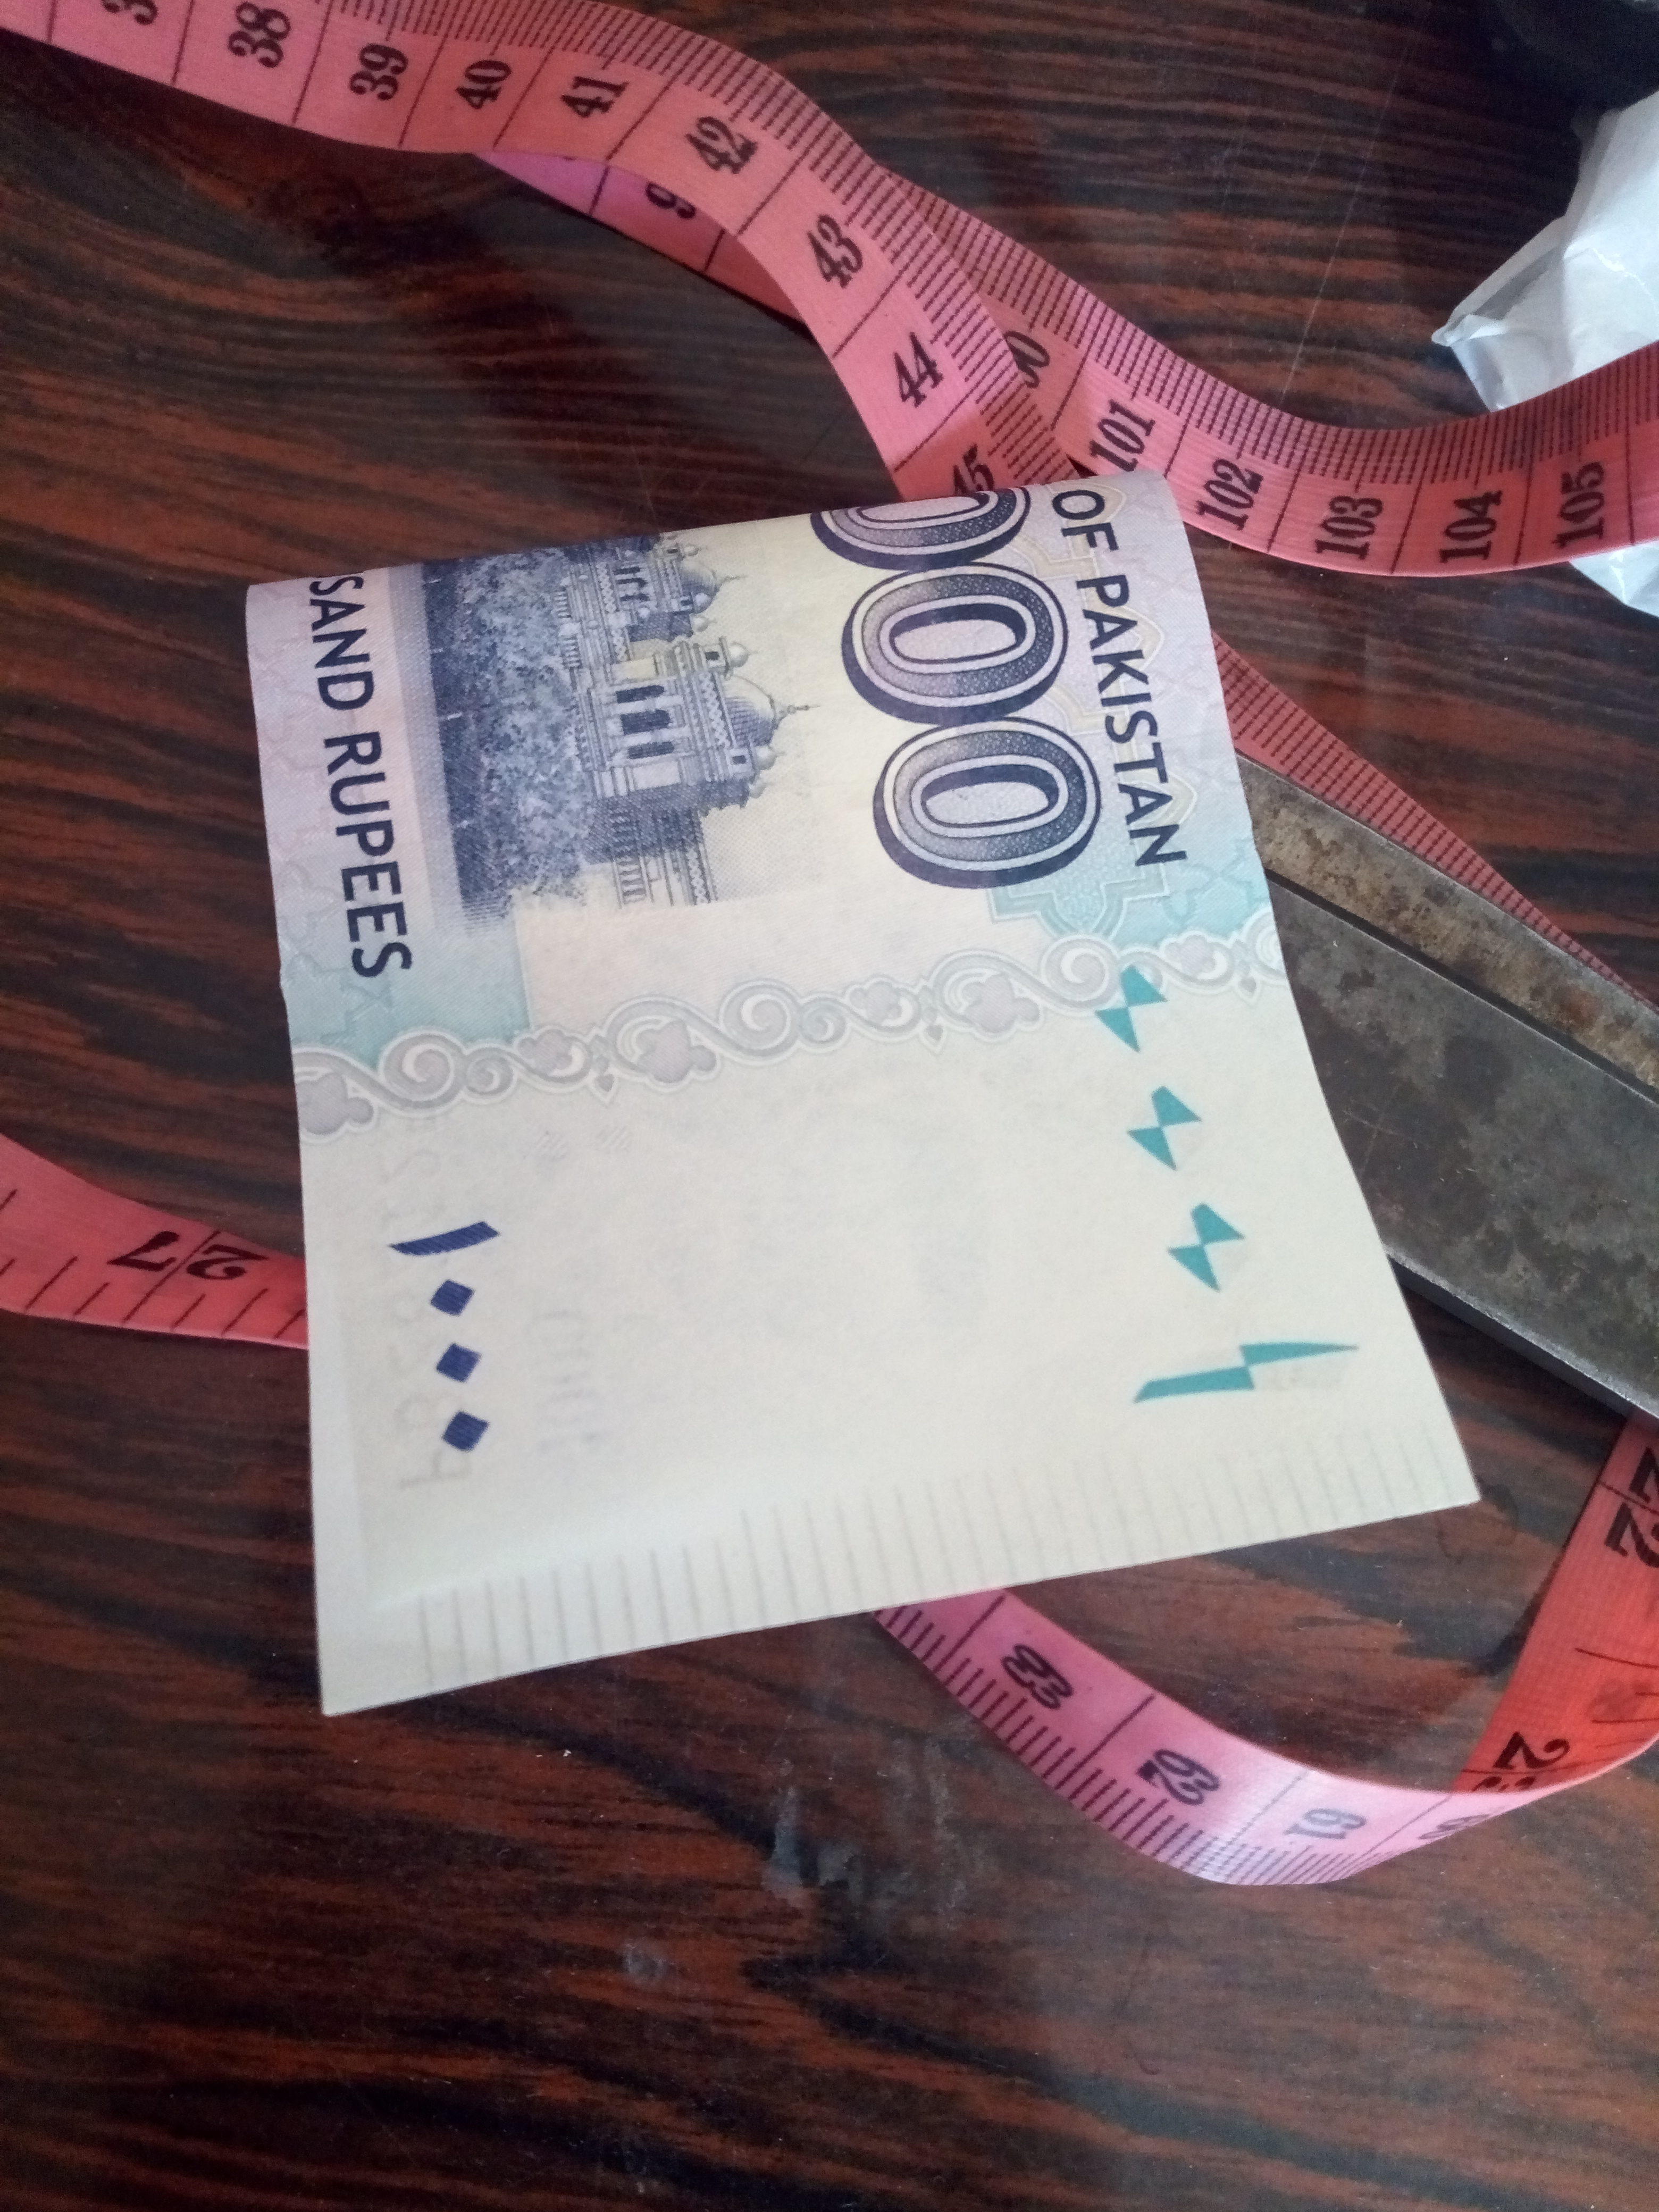1000 rupee: (190, 395, 1493, 1789)
